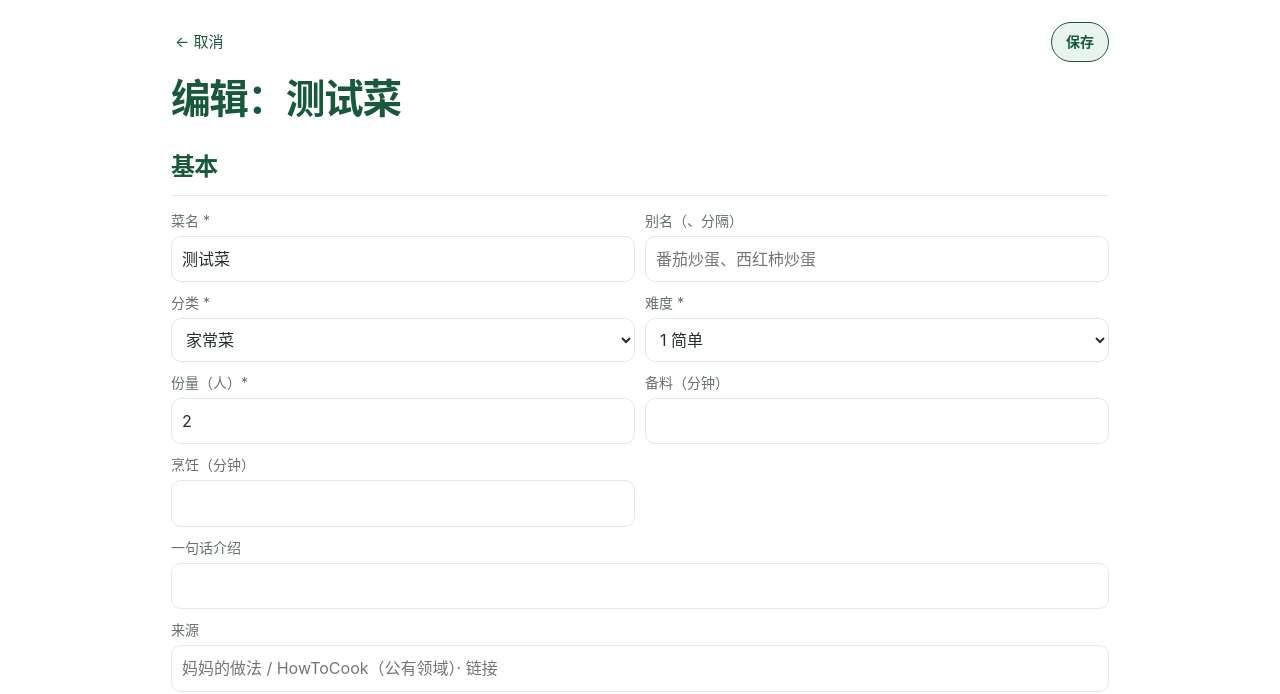
编辑页（CB-009） › 网络中断 → 提示「结果未确认」，不说「没保存」
Check: the field showing "测试菜" is shown, box [171, 236, 635, 282]
What coordinates should you click on to do the following:
click the button "保存"
I would click on:
 (1080, 42)
Its box is [1051, 22, 1109, 62].
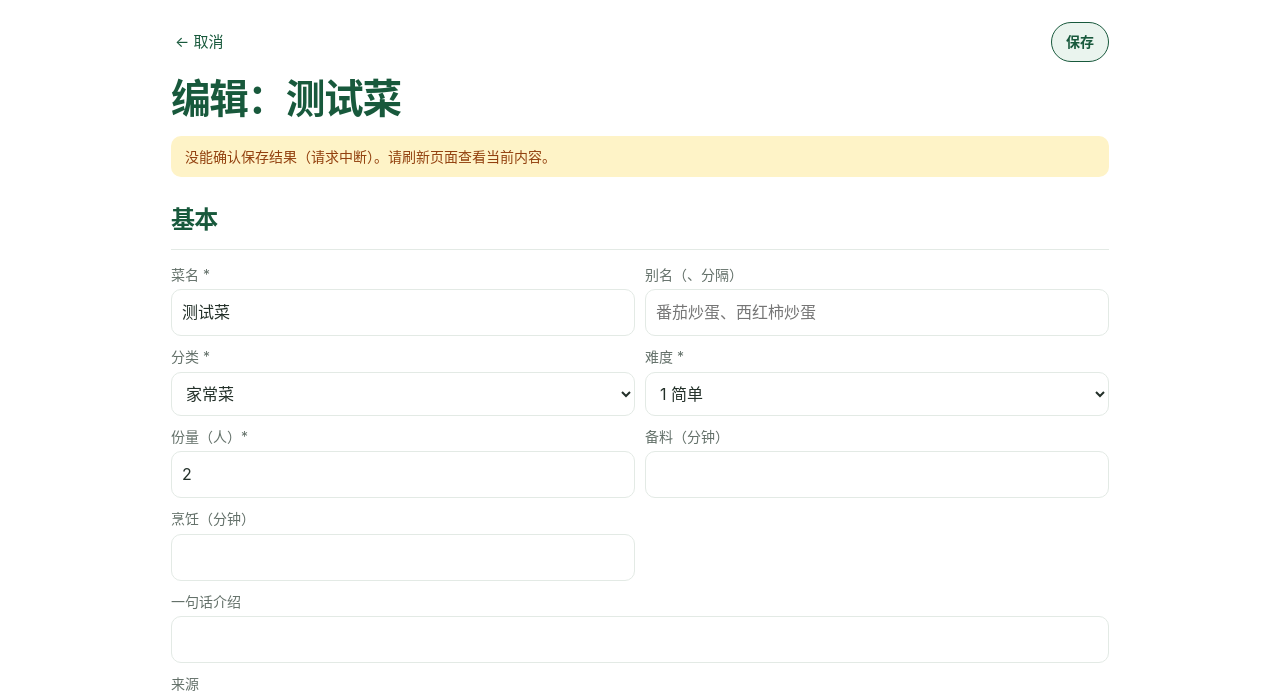
Check: the text "没能确认保存结果（请求中断）。请刷新页面查看当前内容。" is shown, box [171, 136, 1109, 177]
